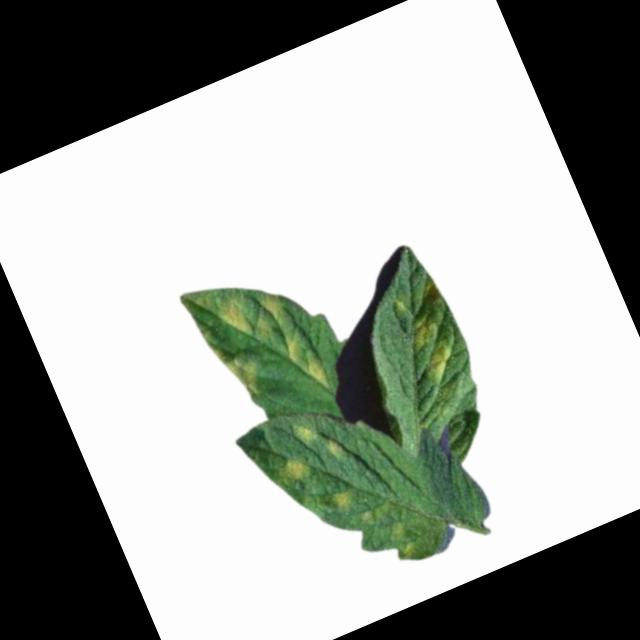Leaf_Mold: (216, 281, 290, 347), (208, 335, 269, 405), (403, 308, 458, 383), (282, 330, 331, 395), (325, 481, 361, 516), (284, 453, 313, 485), (291, 420, 319, 447), (325, 433, 347, 458)
